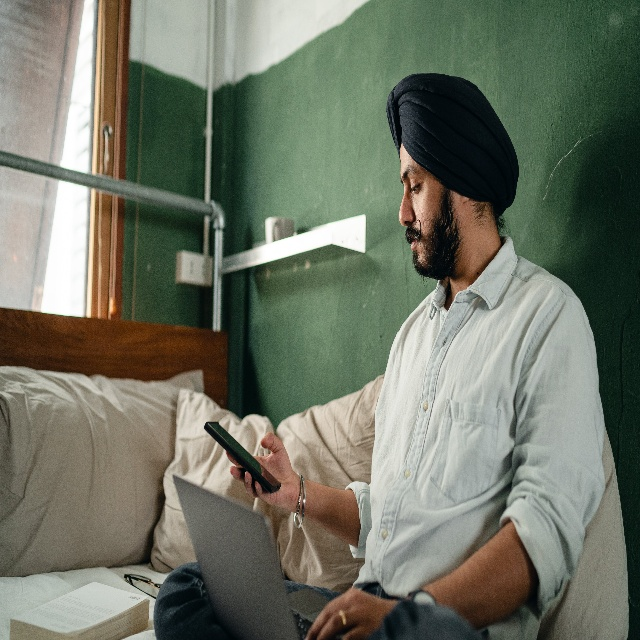Sin_guantes: (225, 432, 308, 515)
